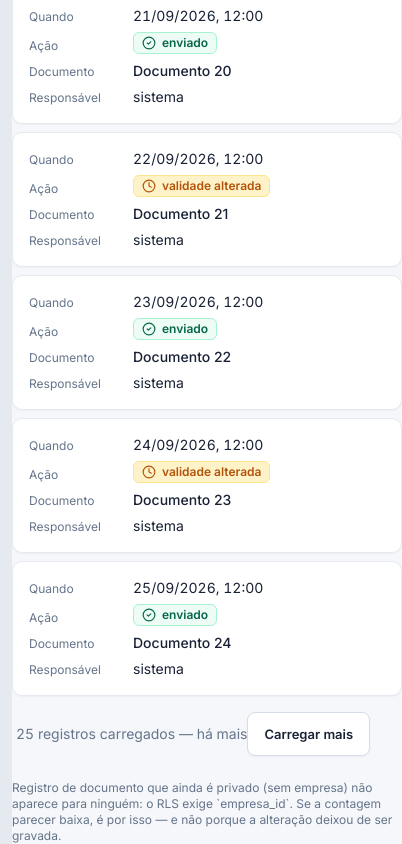
Scenario: recarga e paginação › pagina em vez de cortar em silêncio
(page scrolled)
Expected: the text "25 registros carregados — há mais" is shown, [16,725,248,742]
Click the button "Carregar mais": x=309, y=734 [248,712,370,756]
(page scrolled)
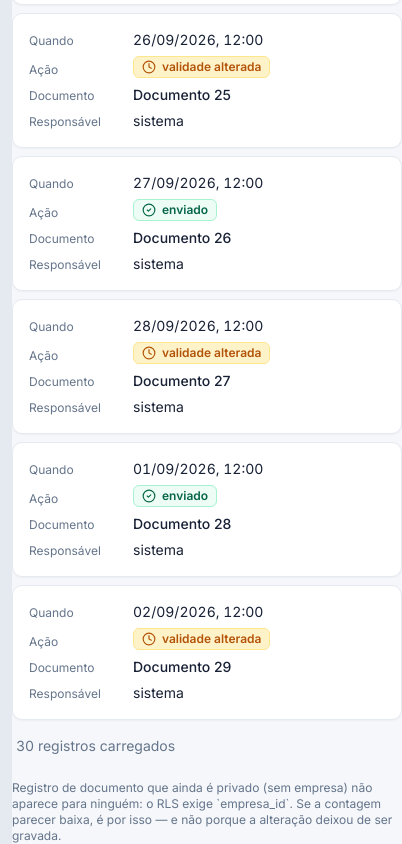
Result: the text "30 registros carregados" is shown at [16,737,175,754]
Result: the text "há mais" is gone
